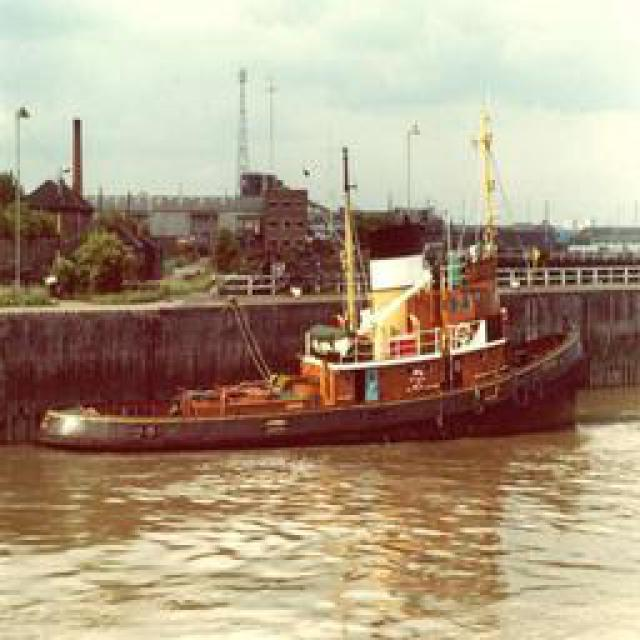Ship: (40, 250, 588, 460)
